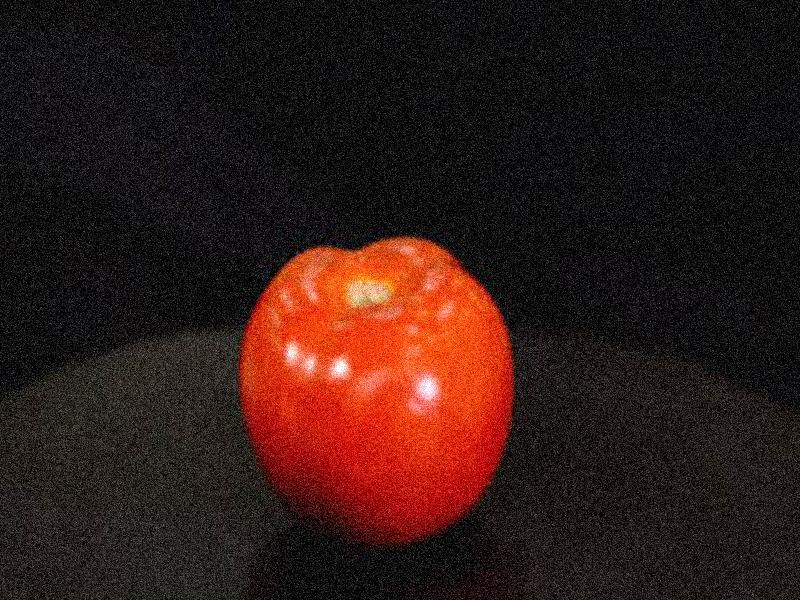Tomato: (240, 236, 517, 539)
